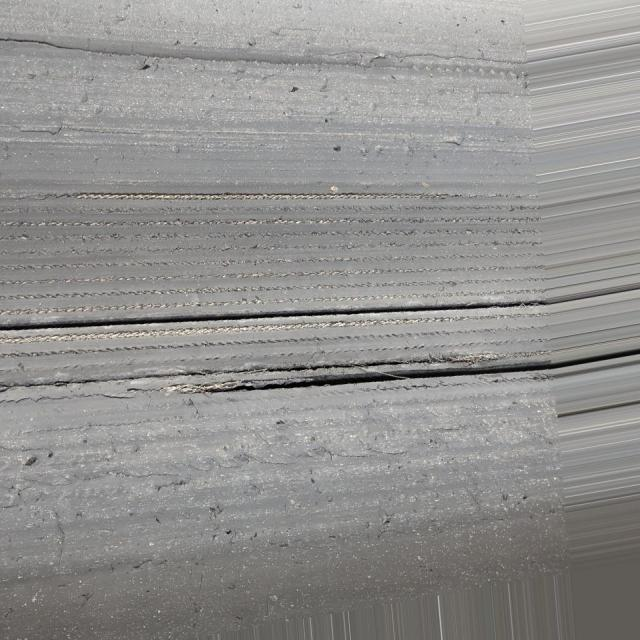Tear: (4, 23, 401, 78), (2, 298, 540, 338), (208, 358, 552, 398)
